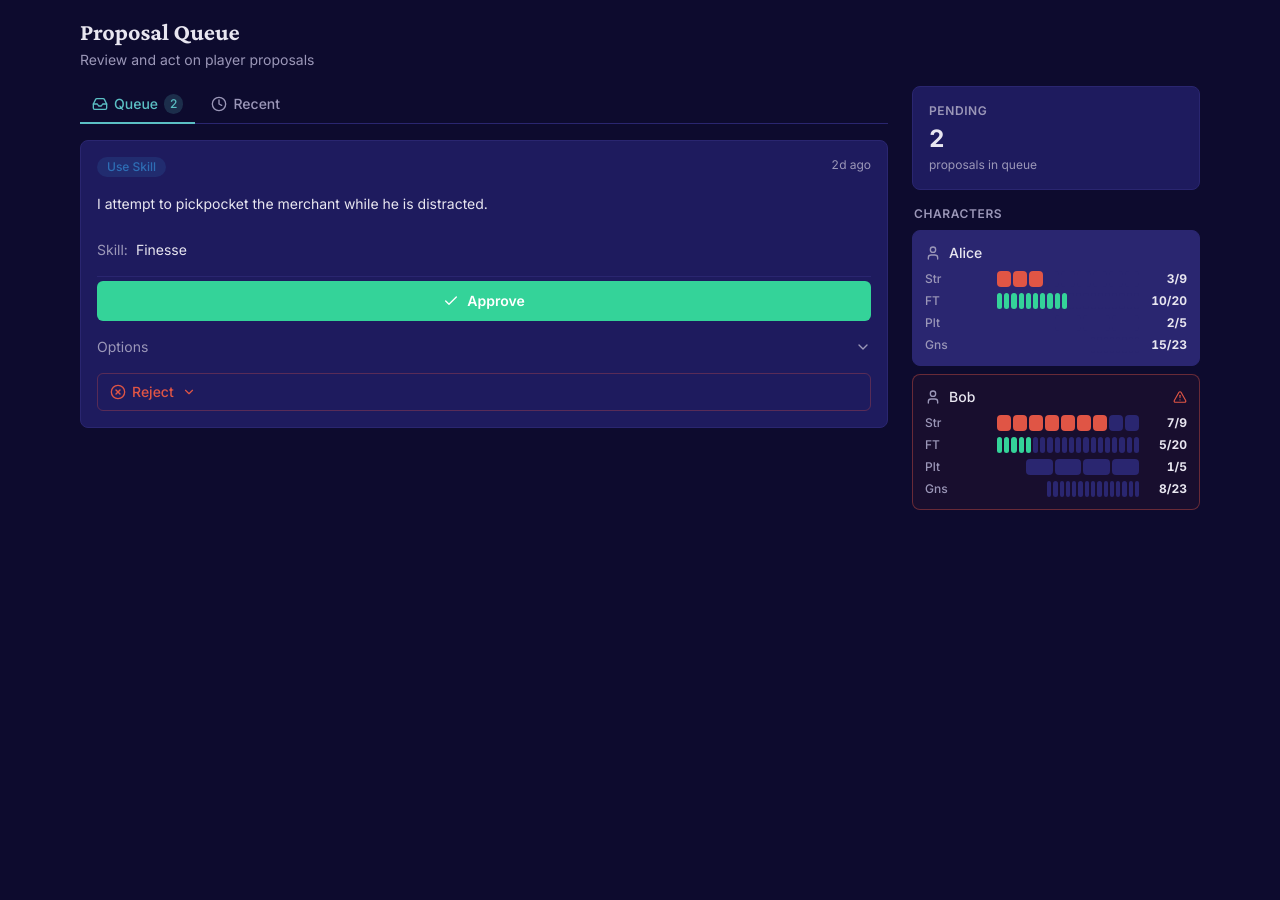
Test: gm-queue: approve with options › opens options panel when Options button is clicked
The width and height of the screenshot is (1280, 900).
Click the button "Options": (123, 346) [97,333,871,361]
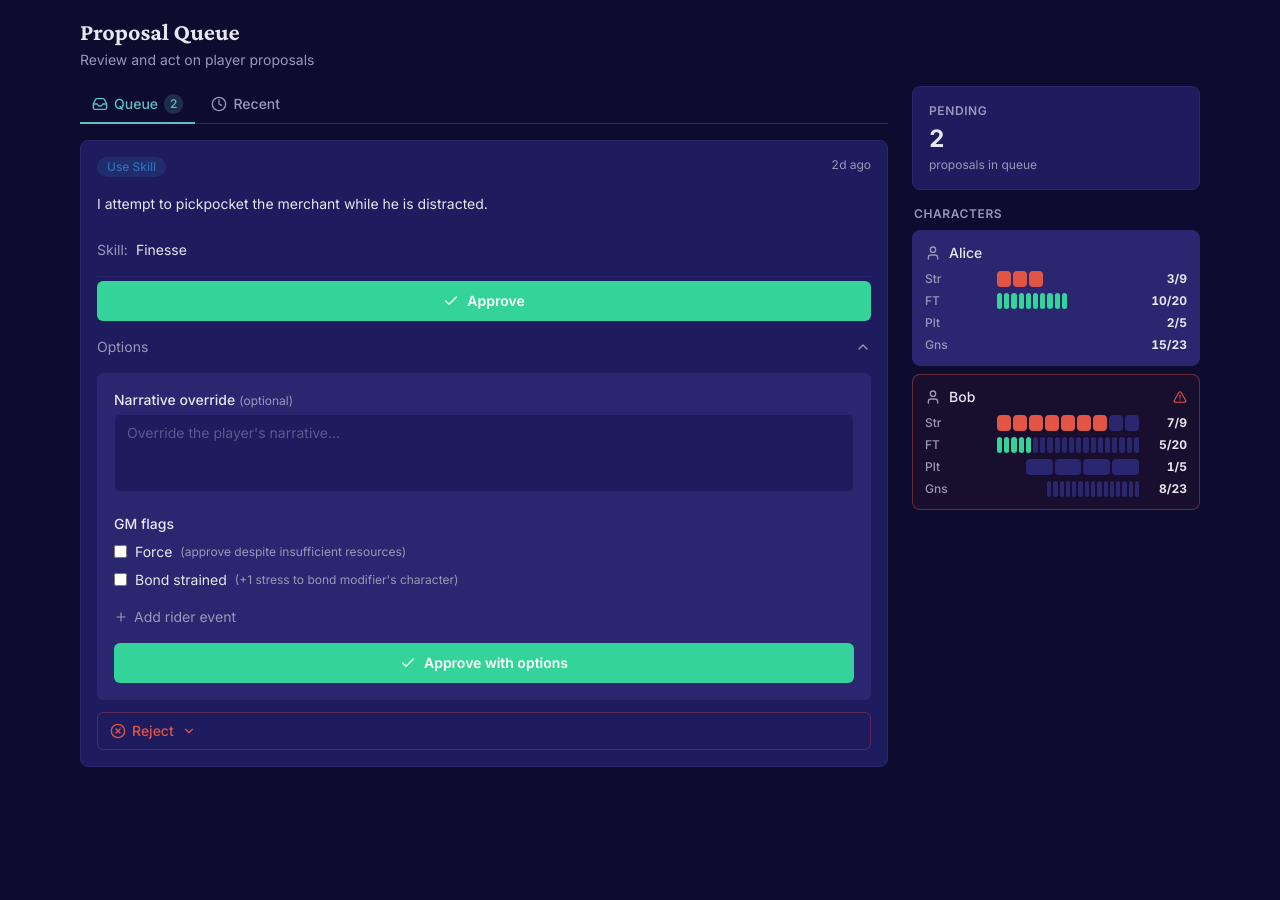
expect the text box labelled "Narrative override(optional)" is shown: met, box [114,414,854,492]
expect the checkbox named "force approval despite insufficient resources" is shown: met, box [114,545,127,558]
expect the checkbox labelled "Bond strained (+1 stress to bond modifier's character)" is shown: met, box [114,573,127,586]
